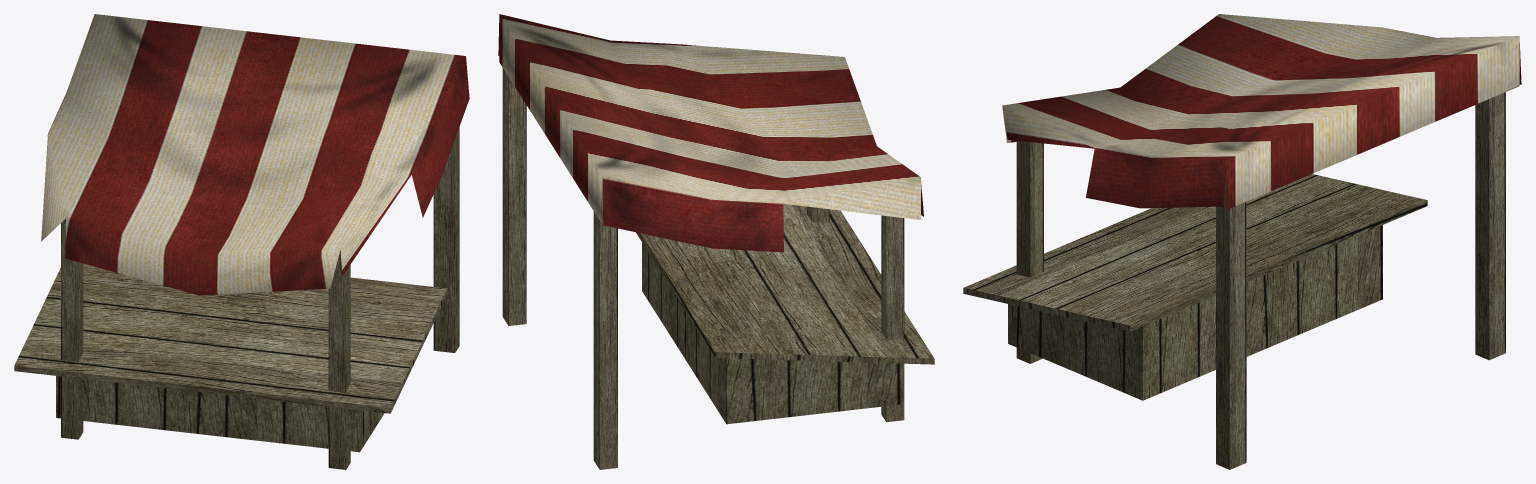
File: Structure_kiosk_red.FBX
3 views of the same model, side by side, from view 1: azimuth 30°, elevation 25°; view 2: azimuth 150°, elevation 25°; view 3: azimuth 270°, elevation 25° (orthographic). The views are drawn at different scales.
Parts seen in each view (by area): view 1: kiosk_red; view 2: kiosk_red; view 3: kiosk_red.
Part boxes in pixels (bbox=[...]): kiosk_red: bbox=[14, 14, 469, 469]; kiosk_red: bbox=[498, 14, 934, 469]; kiosk_red: bbox=[963, 14, 1521, 469].
Size of the model in its own units: 669 by 423 by 684.
